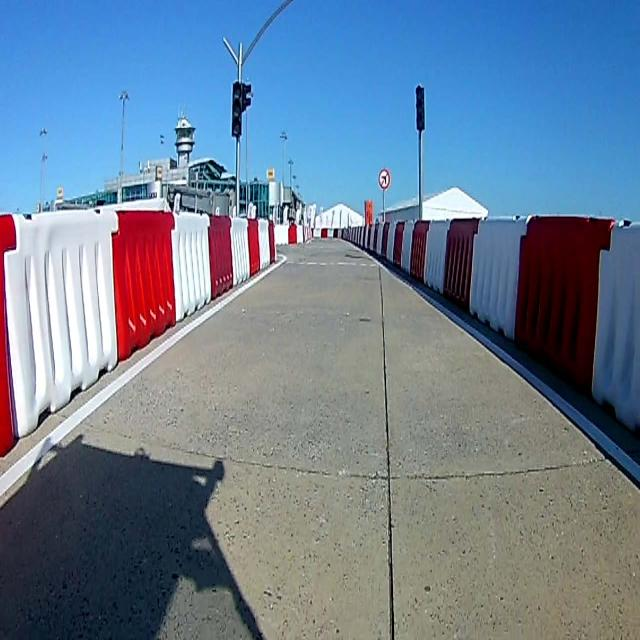soladonulmez: (378, 169, 388, 188)
